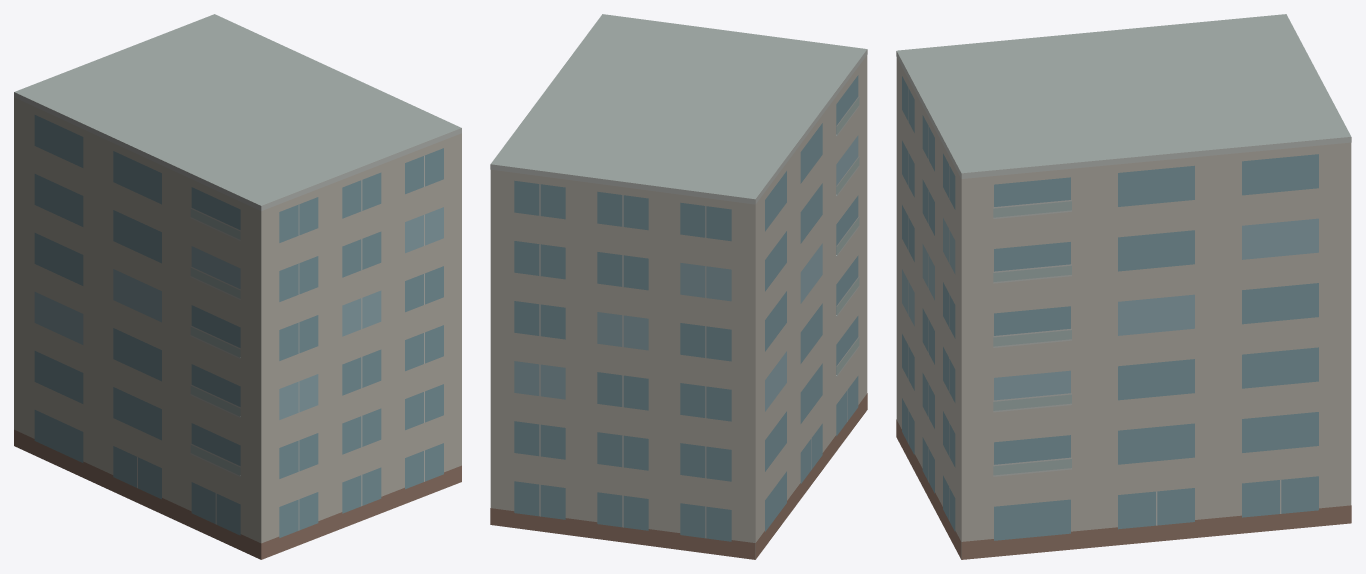
File: survey-upis-32948199.glb
3 renders of one model, left to right at view 1: azimuth 30°, elevation 25°; view 2: azimuth 150°, elevation 25°; view 3: azimuth 270°, elevation 25°, orthographic. The views are drawn at different scales.
Visible parts, largest first — view 1: survey-upis-32948199.tmp; view 2: survey-upis-32948199.tmp; view 3: survey-upis-32948199.tmp.
Boxes of the visible parts, <box> form: survey-upis-32948199.tmp: <box>14,14,461,559</box>; survey-upis-32948199.tmp: <box>490,14,867,559</box>; survey-upis-32948199.tmp: <box>896,14,1351,559</box>.
Bounding box in the file's own units: 14.51 × 16.4 × 17.51.
